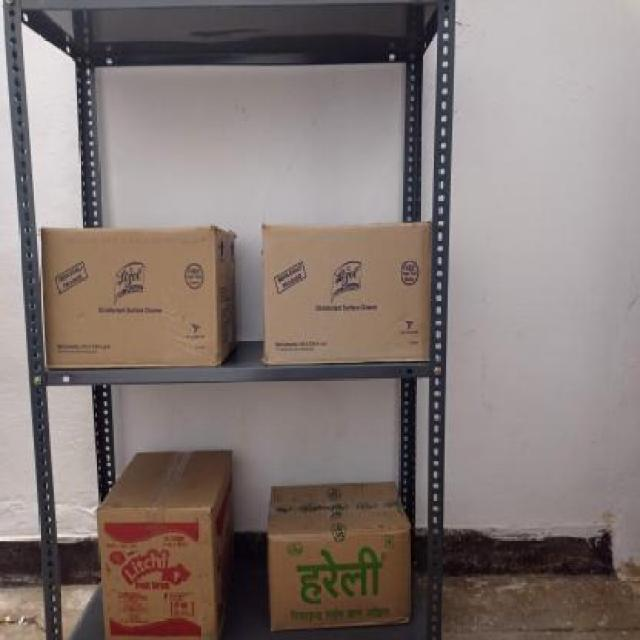box: (46, 224, 219, 364), (264, 228, 430, 364), (270, 529, 412, 634), (103, 509, 212, 640)
